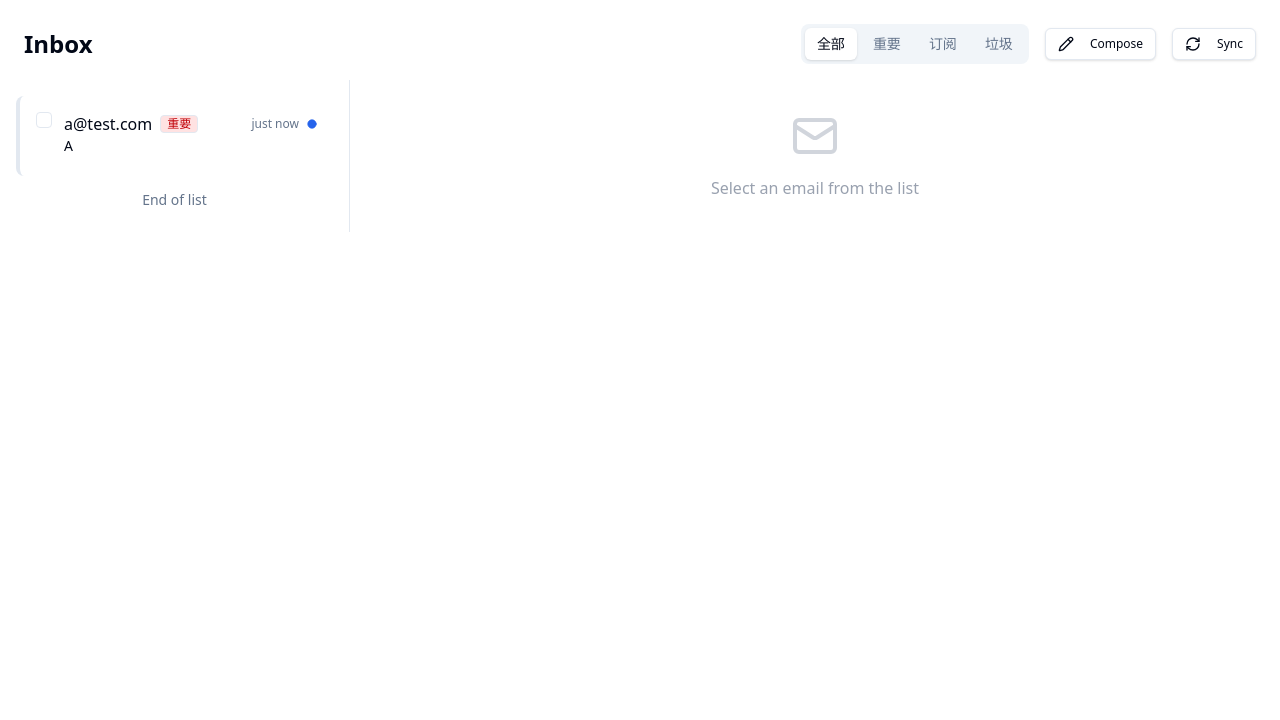
Test case: InboxPage › Run AI Action Button › should show floating action button when emails are selected
Expected: the text "A" is shown, 64,136 -> 73,155
Expected: the button "run ai" is not shown
Select email by clicking the checkbox
Click the checkbox.
click(44, 120)  # box 36,112 -> 52,128
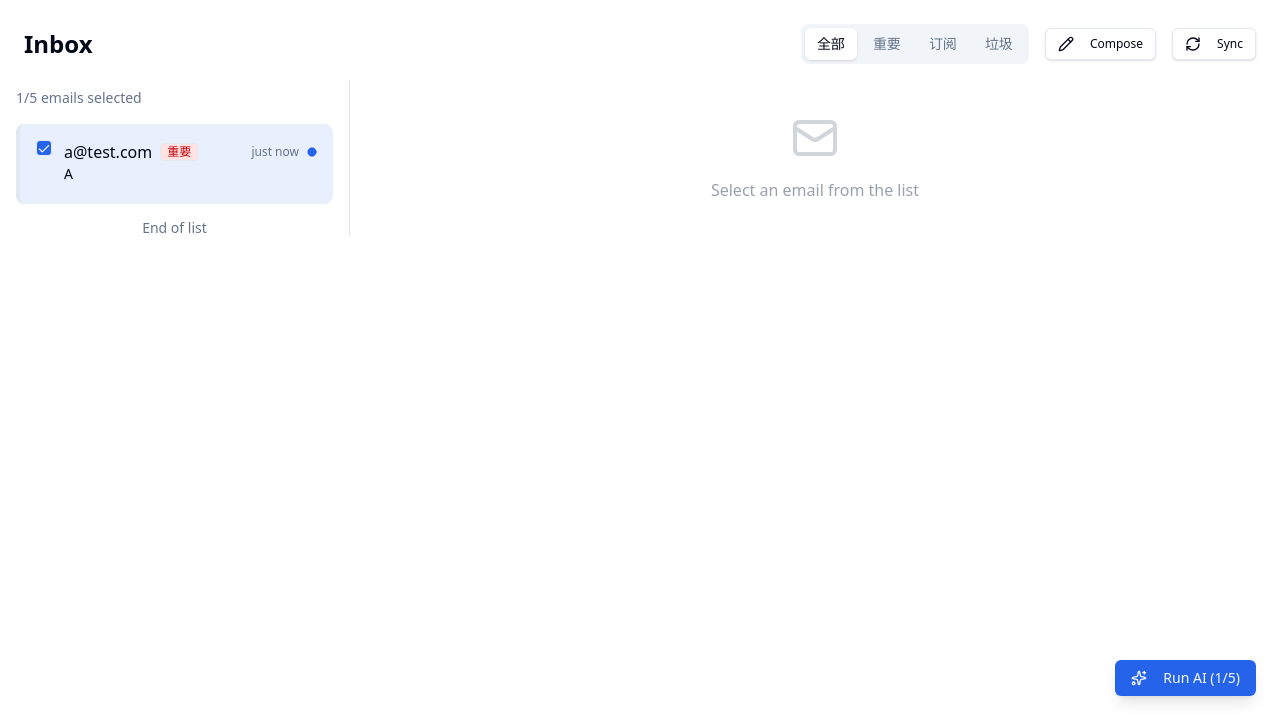
Expected: the button "Run AI (1/5)" is shown, 1115,660 -> 1256,696
